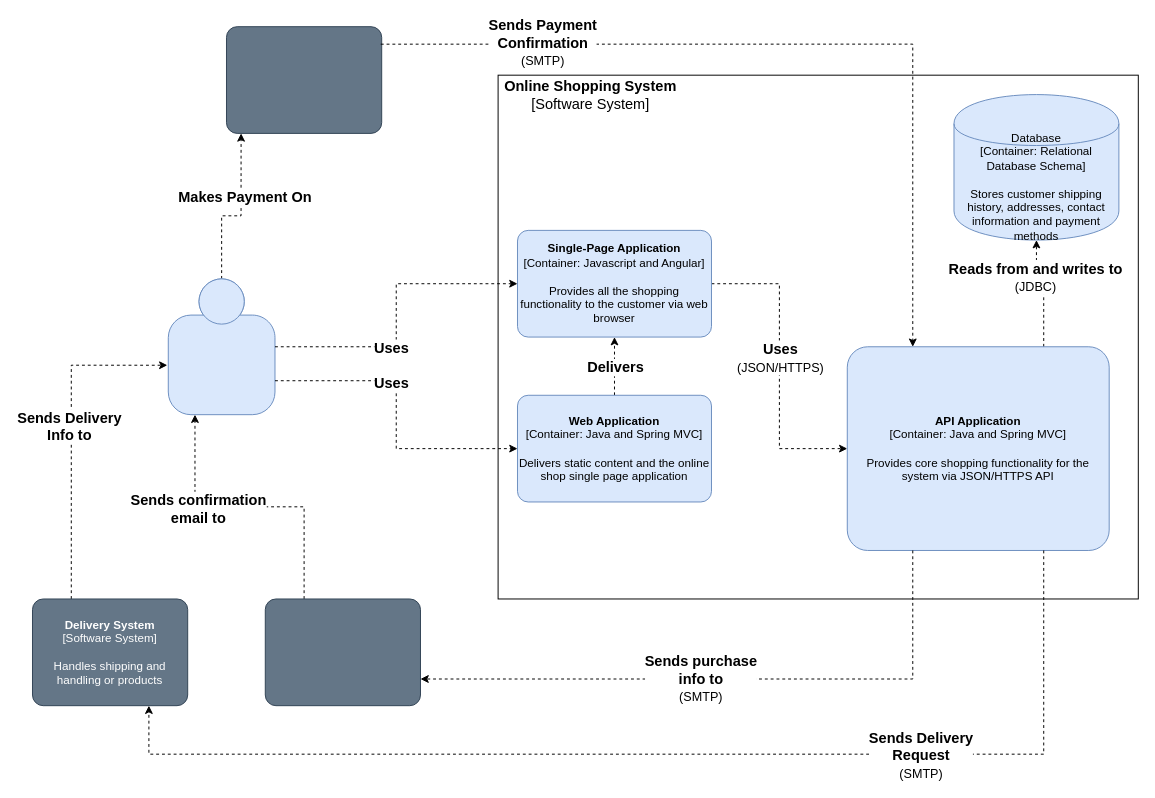
Image size: 1155x798. Some labels were removed from this diagram. Here are the shapes that lost their labels. From the top down, the centre of each, then its label:
[304,79]: Payment System [Software System] Processes Credit Card Payments
[221,346]: Customer [Person] Individuals who utilize the web app to make purchases
[342,652]: Email System [Software System] Handles e-mails for the system
